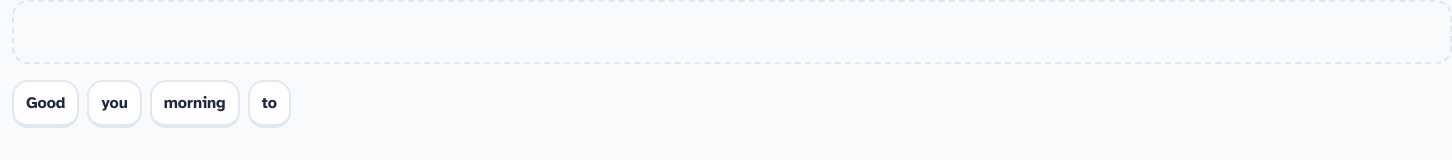
Test: StepsOrder (words-Mode) › Chip in der Antwortzeile antippen → zurück in die Wortbank
Click the button "Good": [46, 104] box [12,80,79,128]
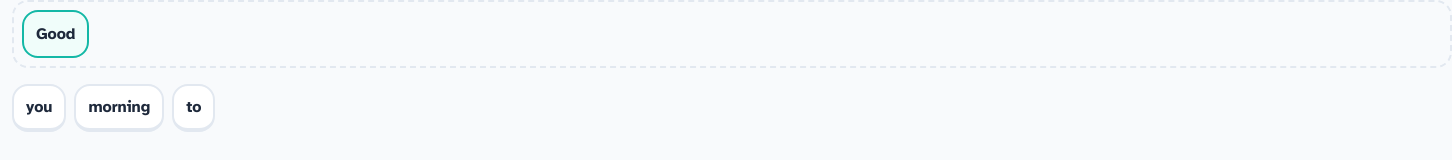
Click the button "morning": [119, 108] box [74,84,164,132]
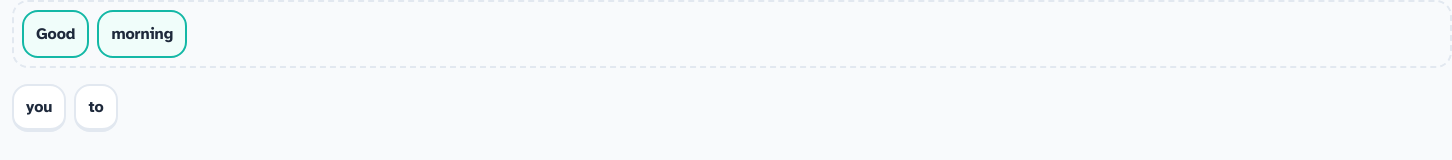
Click the button with aria-label "Good. Antippen zum Entfernen": [56, 34] box [22,10,89,58]
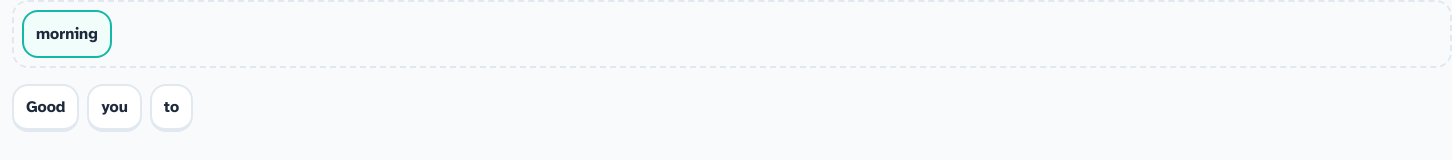
Expected: the button with test id "slot-card" reads "morning", [22,10,112,58]
Expected: the number of buttons with test id "slot-card" is 1, [22,10,112,58]
Expected: the number of buttons with test id "pool-card" is 3, [12,84,79,132]; [87,84,142,132]; [150,84,193,132]
